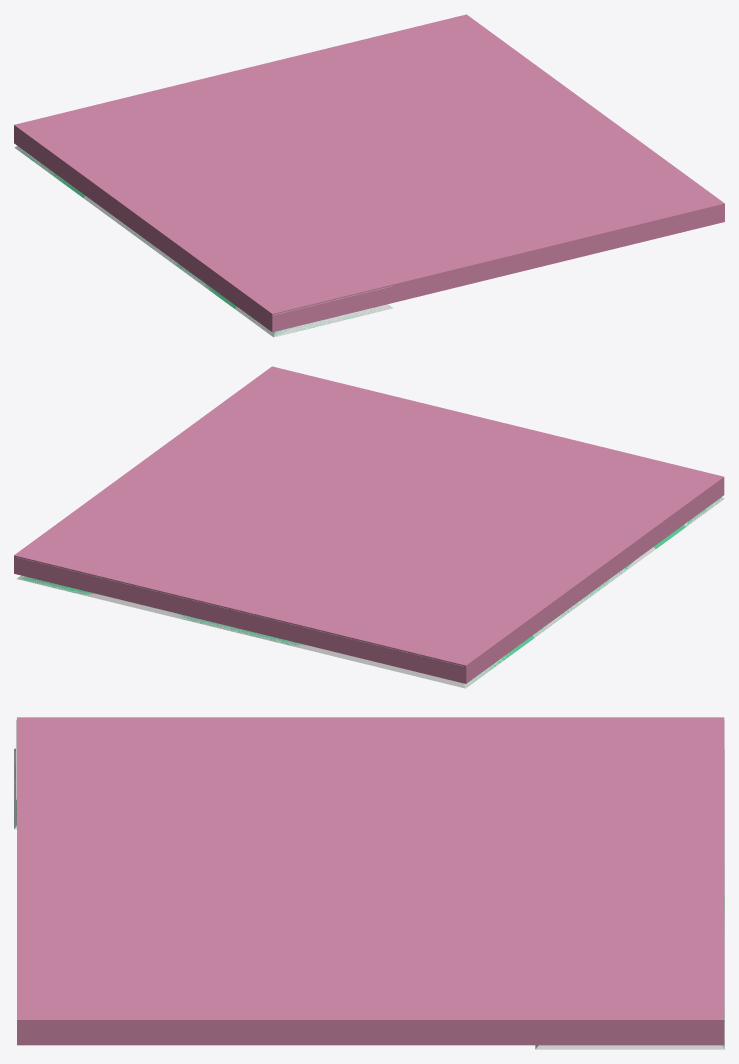
File: race_curb_01_90b.dae
3 renders of one model, top to bottom at view 1: azimuth 30°, elevation 25°; view 2: azimuth 150°, elevation 25°; view 3: azimuth 270°, elevation 25°, orthographic. The views are drawn at different scales.
Visible parts, largest first — view 1: Untitled, ind_bld_a240, Colmesh-1; view 2: Untitled, ind_bld_a240, Colmesh-1; view 3: Untitled, ind_bld_a240.
Part boxes in pixels (x1=…): Untitled: x1=14, y1=14, x2=724, y2=332; ind_bld_a240: x1=14, y1=146, x2=392, y2=337; Colmesh-1: x1=16, y1=147, x2=390, y2=336; Untitled: x1=14, y1=366, x2=724, y2=683; ind_bld_a240: x1=17, y1=497, x2=724, y2=688; Colmesh-1: x1=18, y1=497, x2=723, y2=686; Untitled: x1=17, y1=717, x2=724, y2=1045; ind_bld_a240: x1=14, y1=748, x2=724, y2=1049.
Bounding box in the file's own units: 6.04 × 6 × 0.2921.
